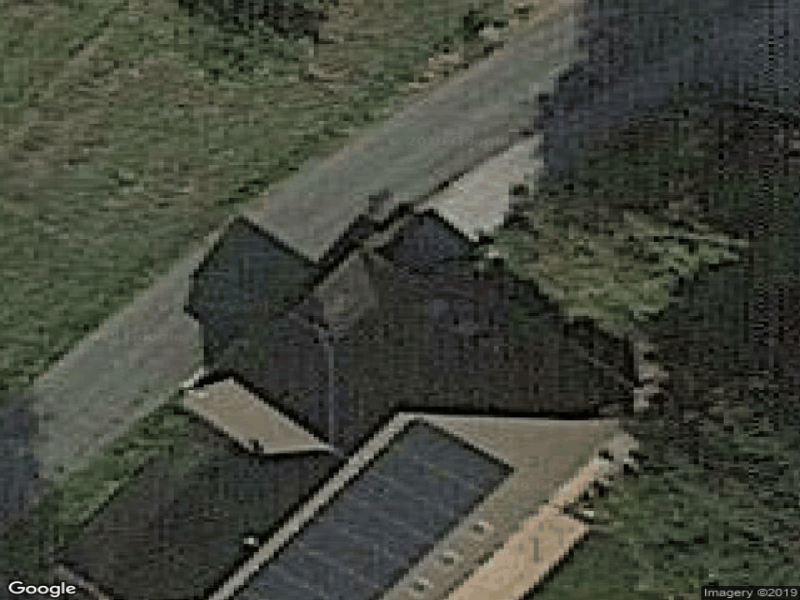pv: (225, 421, 515, 600)
